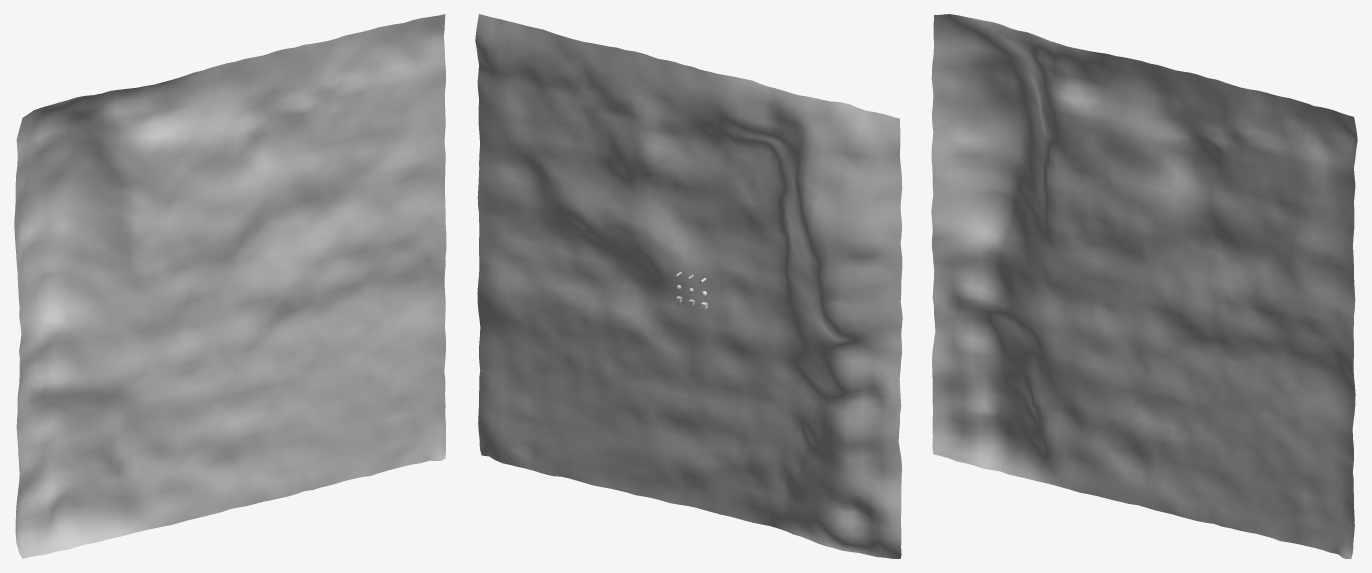
File: snow_map_4k.dae
3 views of the same model, side by side, from view 1: azimuth 30°, elevation 25°; view 2: azimuth 150°, elevation 25°; view 3: azimuth 330°, elevation 25° (orthographic).
Parts seen in each view (by area): view 1: STM_ground.001; view 2: STM_ground.001; view 3: STM_ground.001.
Boxes of the visible parts, x1=… form: STM_ground.001: x1=14, y1=14, x2=446, y2=558; STM_ground.001: x1=475, y1=14, x2=902, y2=558; STM_ground.001: x1=931, y1=14, x2=1357, y2=558.
Size of the model in its own units: 417 by 47.67 by 418.
